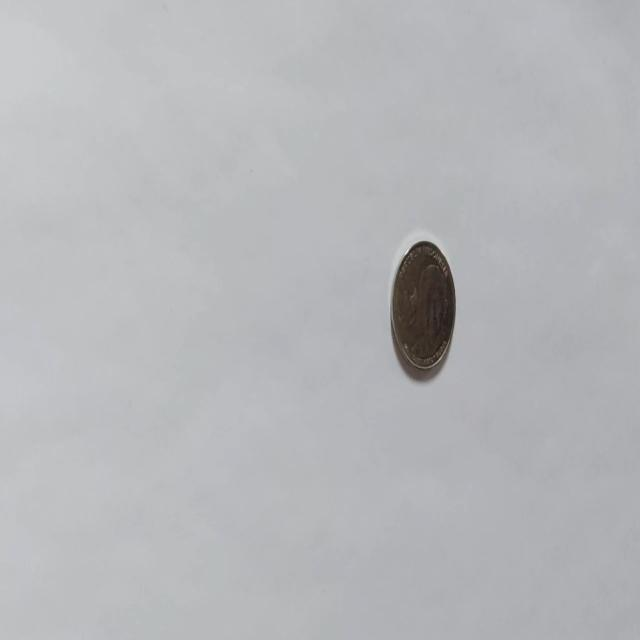seribu rupiah koin: (389, 237, 457, 376)
